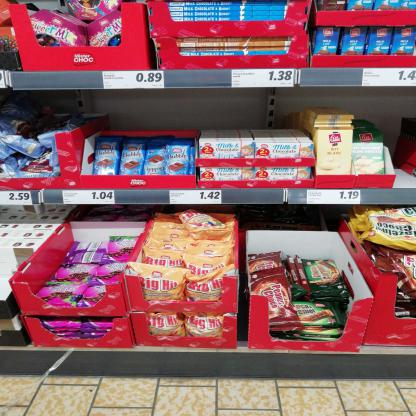prtg: (233, 70, 295, 89), (103, 72, 165, 90), (362, 69, 416, 87), (63, 191, 116, 205), (308, 191, 361, 205), (171, 191, 223, 205), (1, 192, 34, 206)
